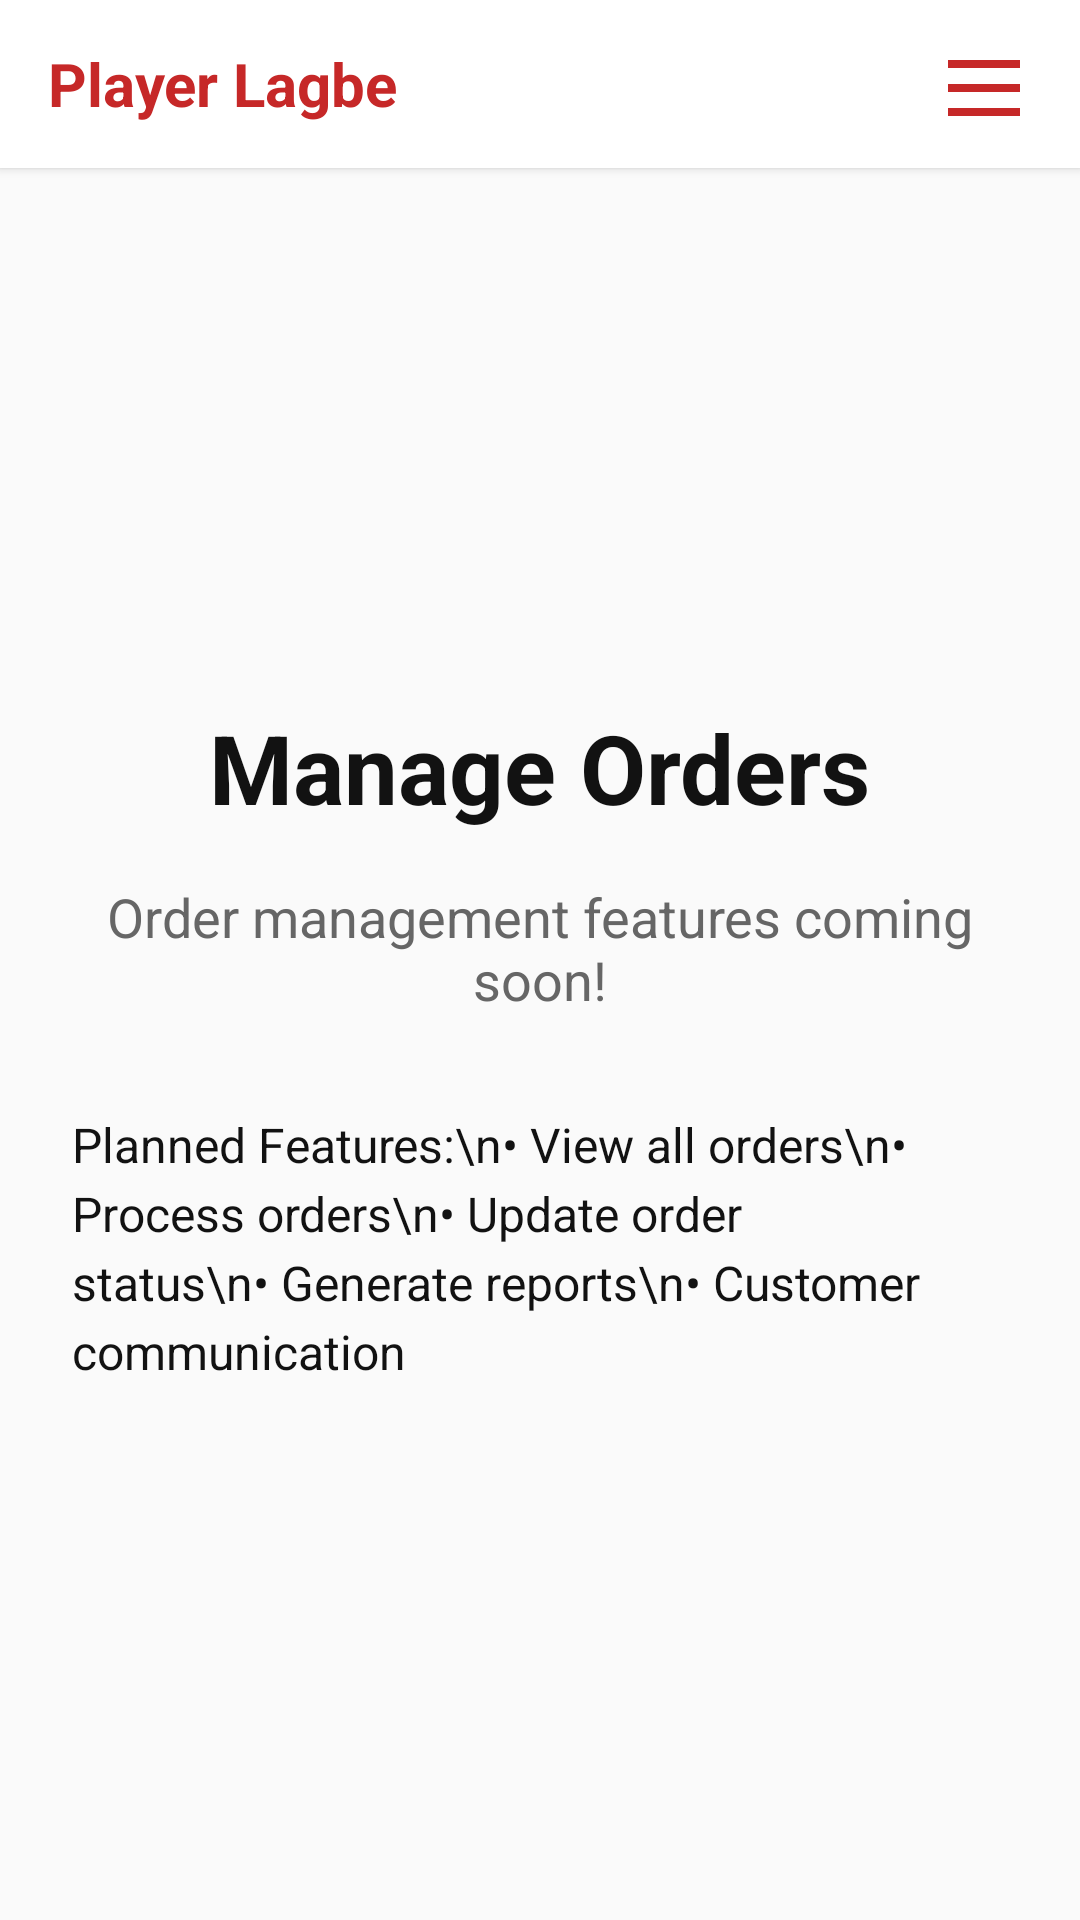

Icons on this 1080 × 1920 Android screen, each with the point to tap as (x=x, y=y):
Menu: (x=984, y=88)
